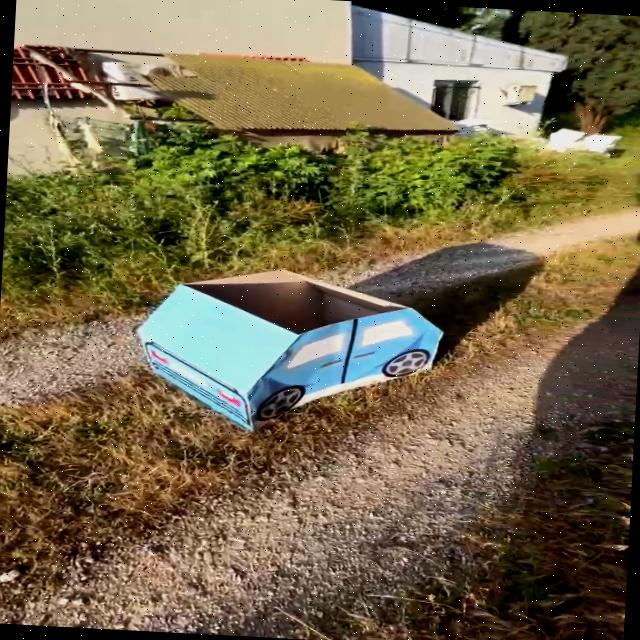blue_car: (94, 246, 547, 455)
